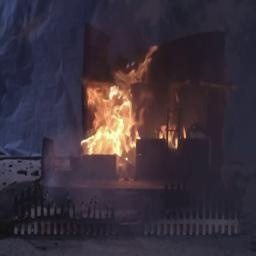fire: (74, 50, 165, 160)
